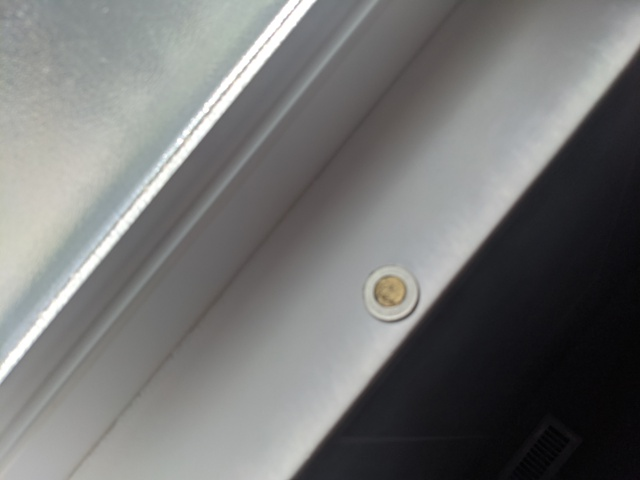twonie: (358, 263, 419, 319)
